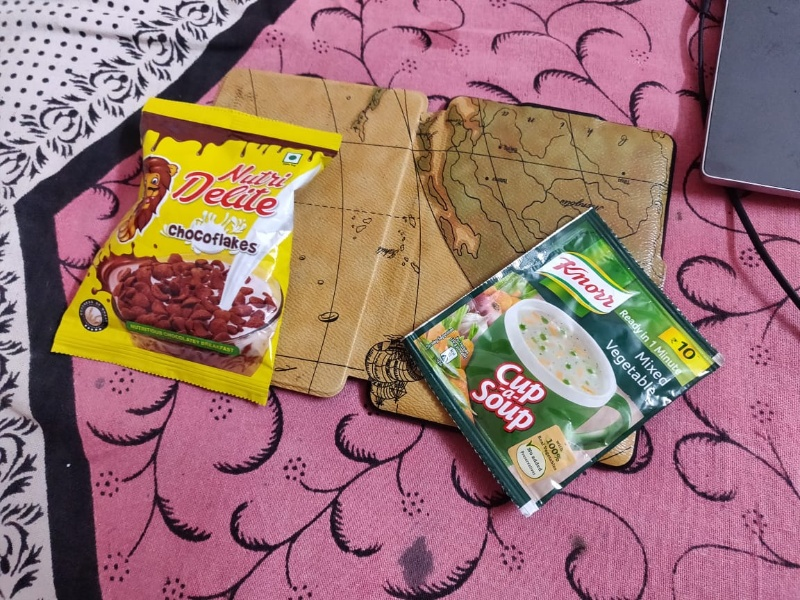Knorr_Cup_Soup: (404, 223, 707, 515)
nutriDelite: (73, 97, 314, 415)
